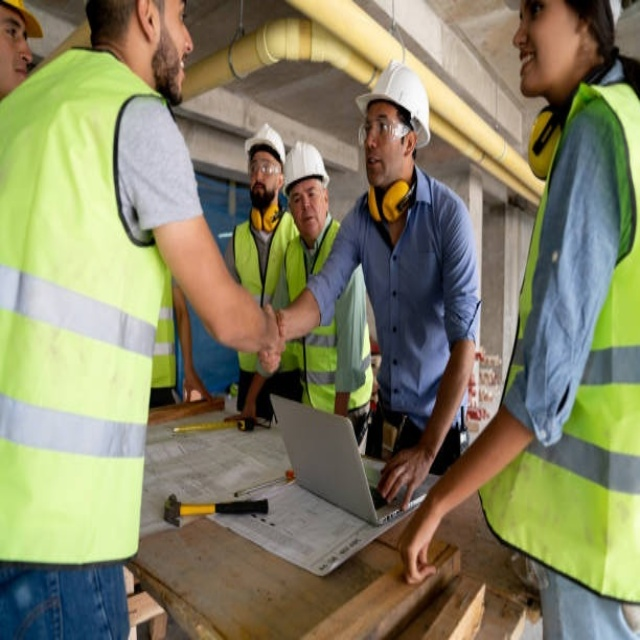Gafas: (358, 119, 410, 144), (248, 157, 281, 173)
Sin_gafas: (518, 0, 561, 27), (3, 6, 27, 44), (290, 180, 320, 202), (167, 3, 193, 25)
Sin_guantes: (375, 441, 435, 517), (395, 501, 443, 586), (256, 302, 287, 375), (180, 373, 212, 404)
Sin_mascara: (157, 47, 192, 89), (516, 44, 546, 83), (363, 149, 384, 182), (250, 177, 270, 199), (301, 209, 320, 231)
